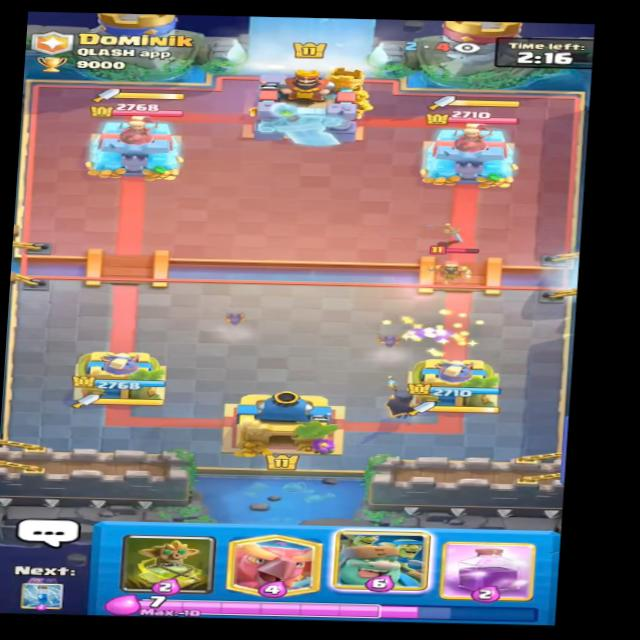wizard: (426, 242, 480, 286)
